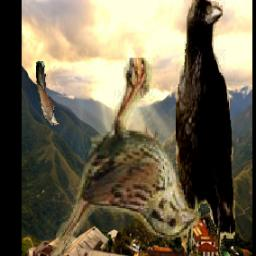Crow: (176, 0, 235, 256)
Cuckoo: (36, 62, 59, 126)
Sparrow: (51, 58, 201, 256)
